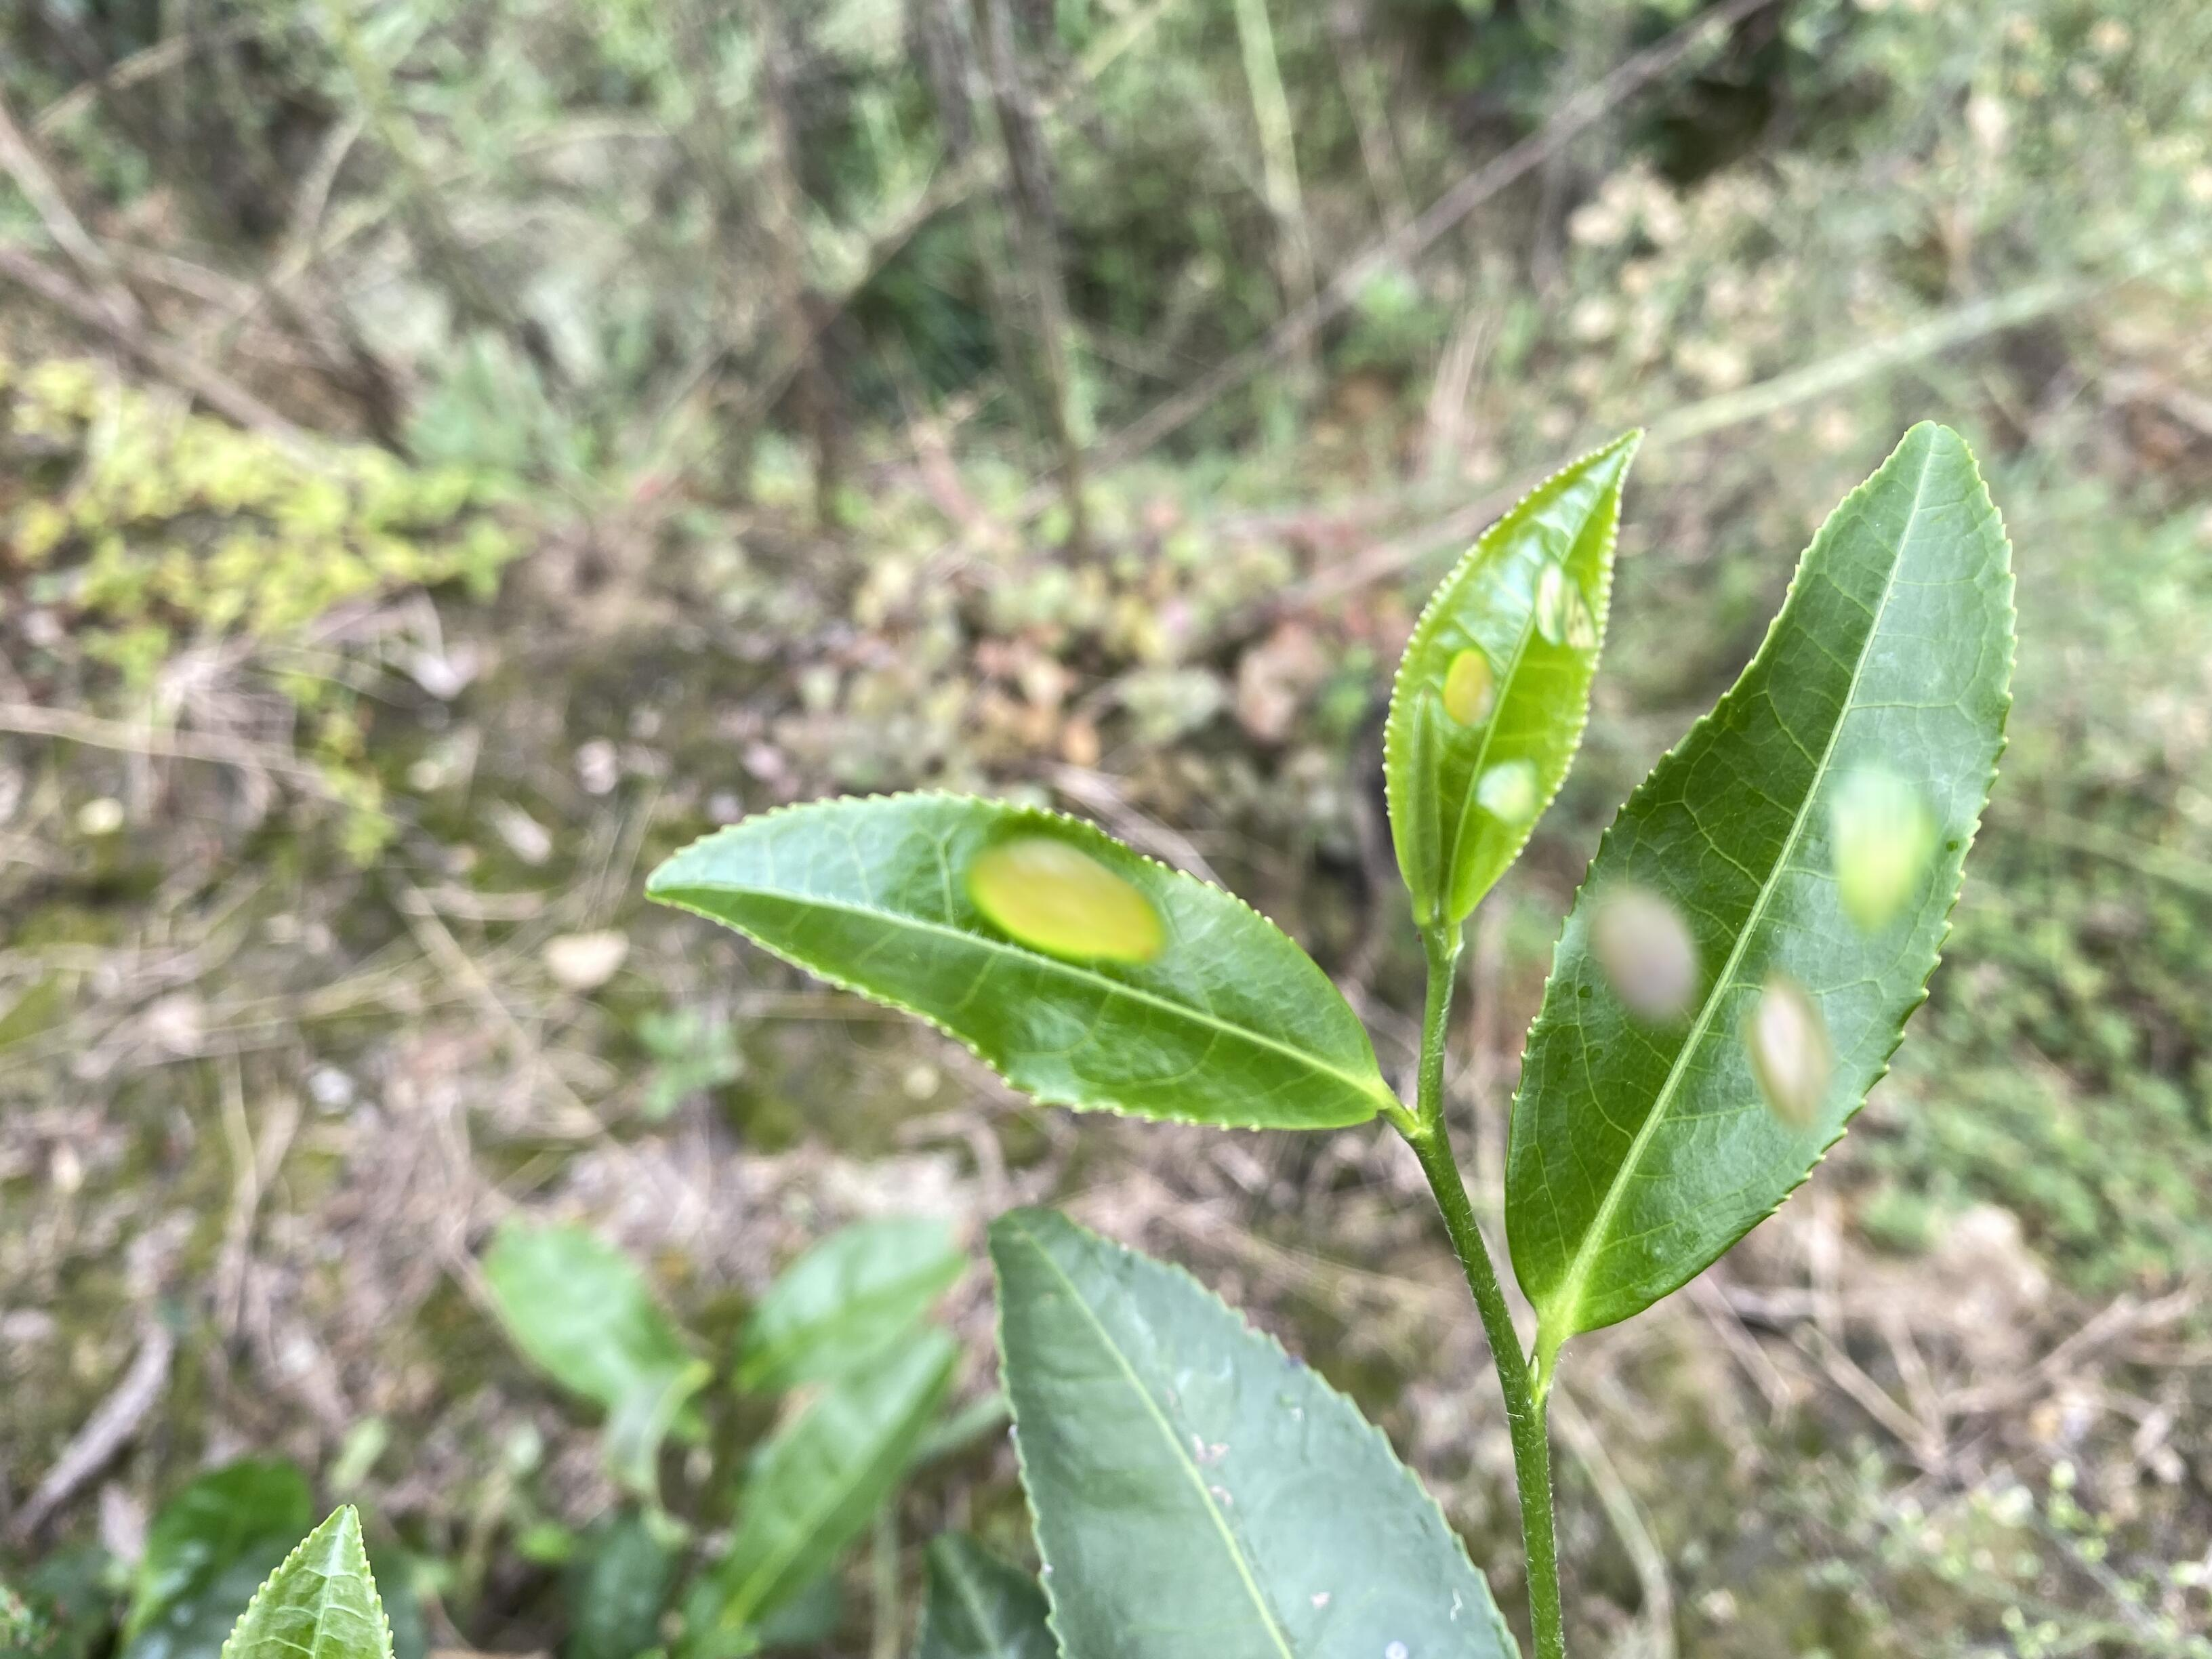chabing_high: (1500, 418, 2019, 1335), (1379, 427, 1648, 934)
chabing_low: (644, 788, 1385, 1131)
tanju_low: (984, 1206, 1519, 1656)
